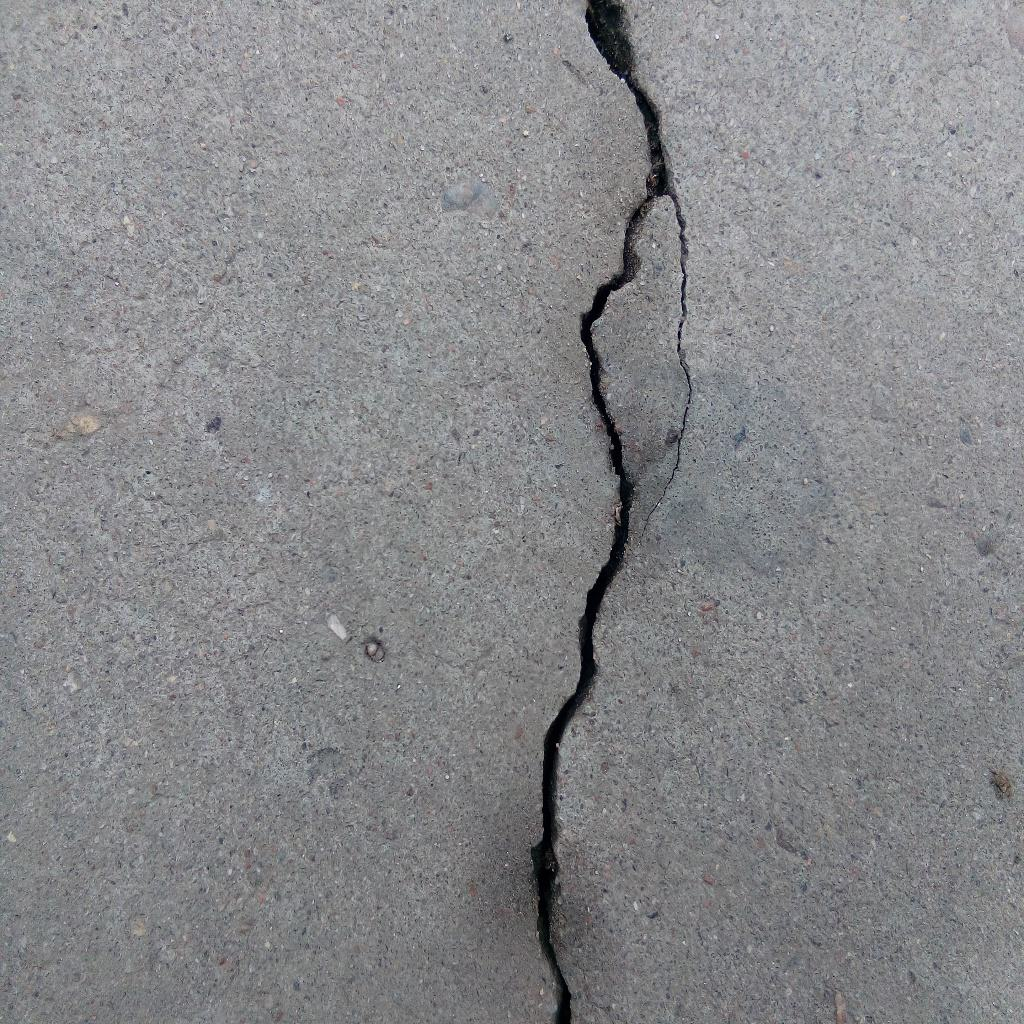Crack: (528, 1, 673, 1024), (638, 194, 694, 540)
